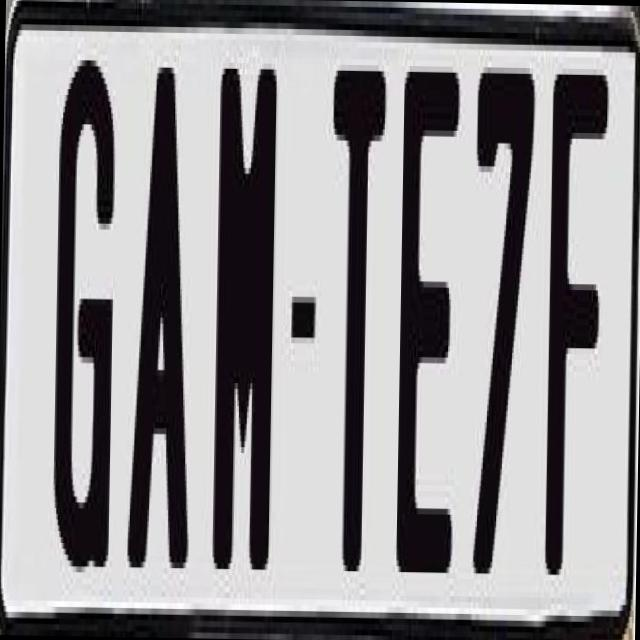7: (468, 61, 540, 592)
A: (122, 66, 194, 585)
E: (396, 71, 464, 584)
F: (542, 56, 614, 593)
G: (50, 42, 124, 590)
M: (206, 56, 276, 593)
T: (325, 64, 395, 583)
